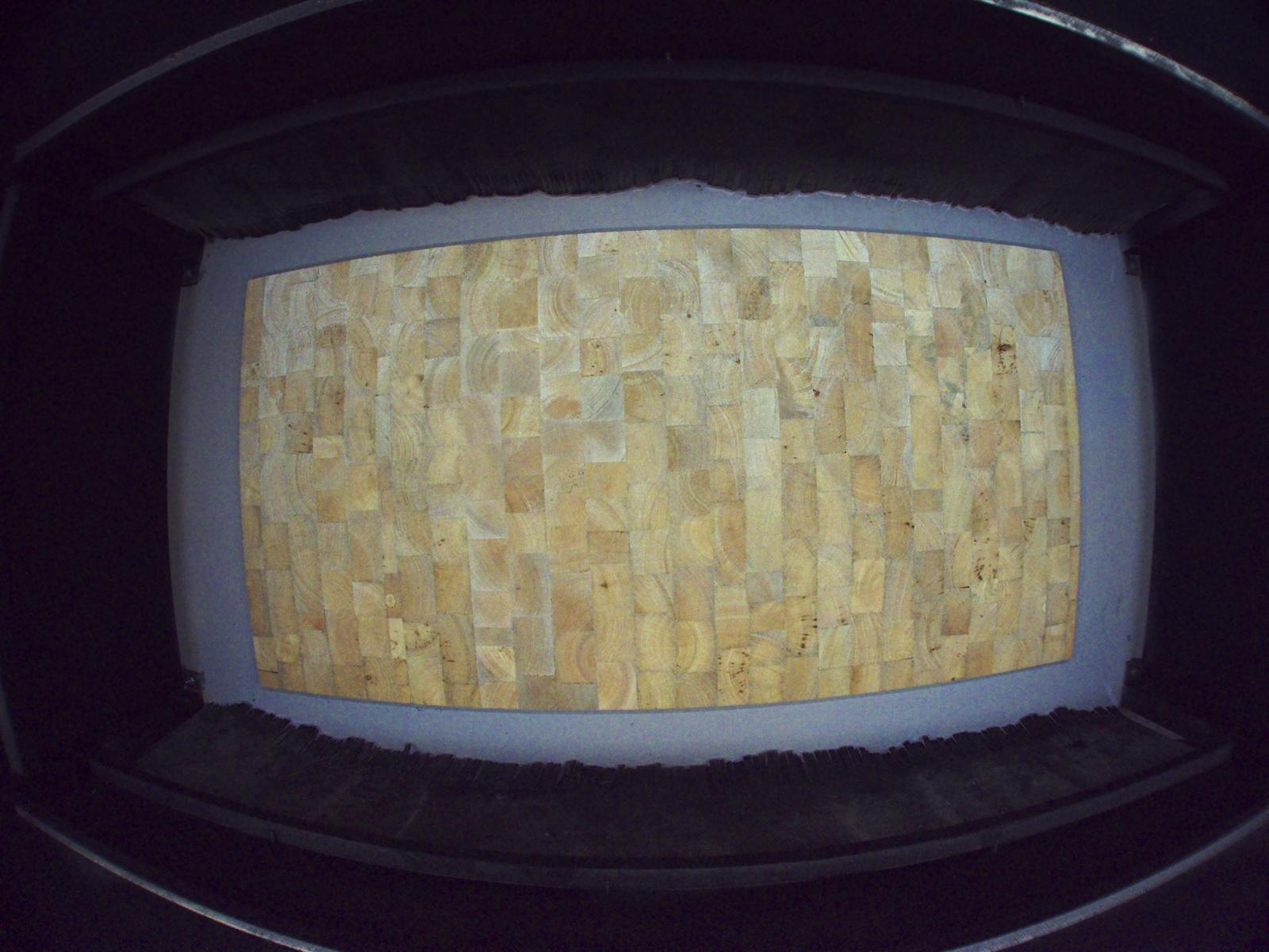sheck_ecuatoriano: (997, 322, 1013, 372)
